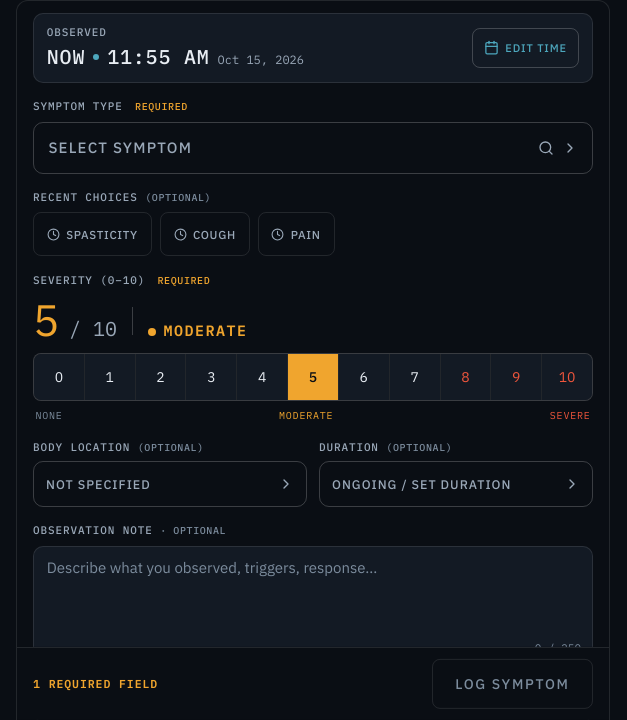
Scenario: SymptomLogForm › shows deduped recent choices and selects from a chip
This screenshot has width=627, height=720.
Click the button "Spasticity" at coordinates (92, 234), box [33,212,152,256]
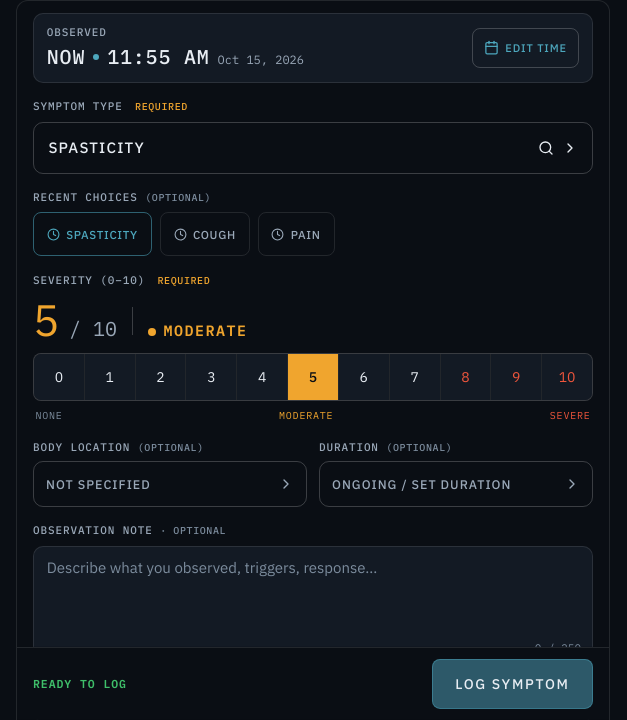
Check: the text "Ready to log" is shown, box [33,675,127,692]
